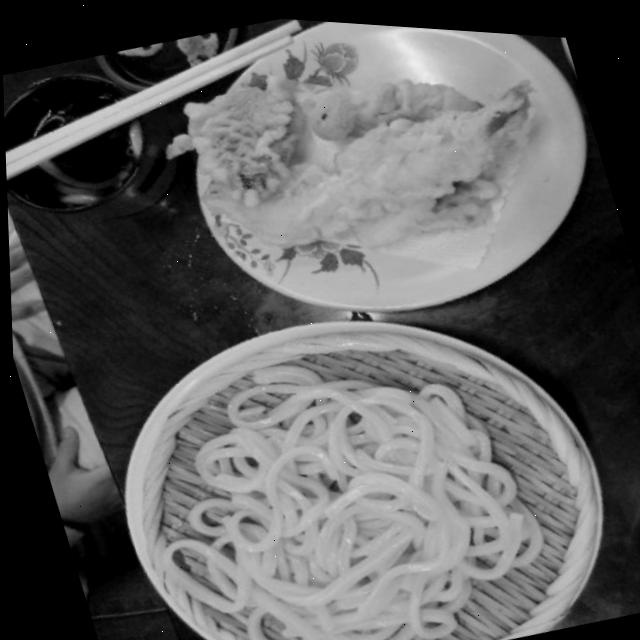蔬菜料理: (135, 7, 633, 369)
